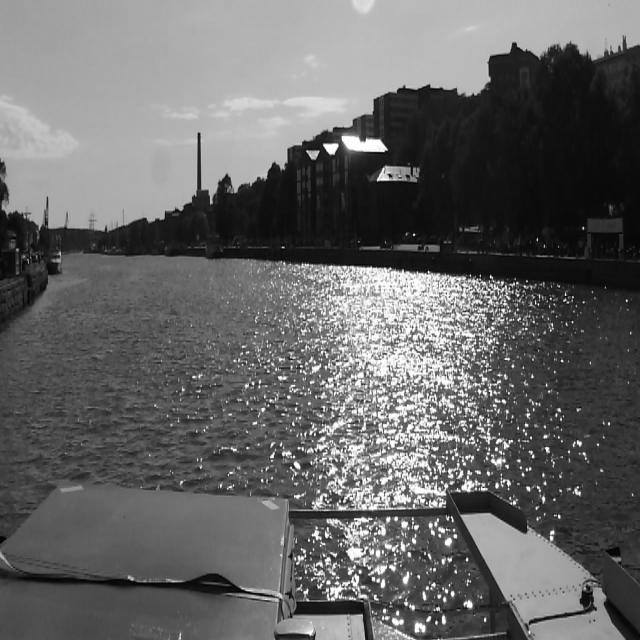ship: (47, 250, 61, 274)
